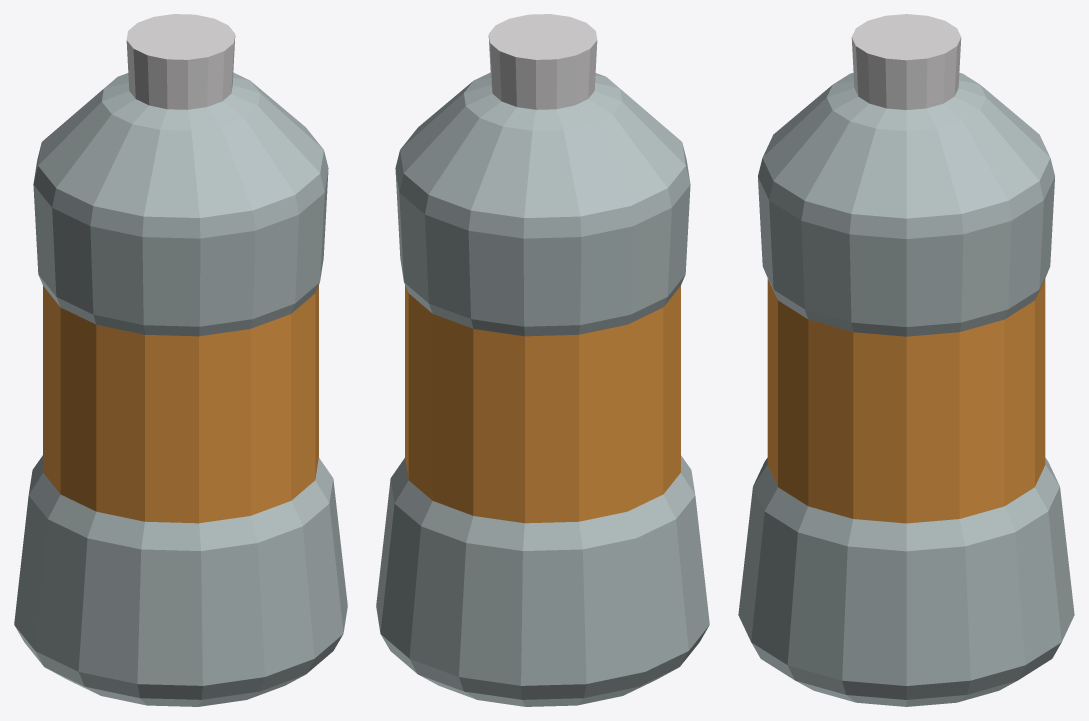
The model's file is Botella.fbx.
3 views of the same model, side by side, from view 1: azimuth 30°, elevation 25°; view 2: azimuth 150°, elevation 25°; view 3: azimuth 270°, elevation 25° (orthographic).
Parts seen in each view (by area): view 1: Botella; view 2: Botella; view 3: Botella.
Boxes of the visible parts, box(x1,y1,x2,y2) form: Botella: box(14, 14, 347, 706); Botella: box(376, 14, 709, 706); Botella: box(738, 14, 1074, 706).
Bounding box in the file's own units: 81.58 × 164 × 81.58.
